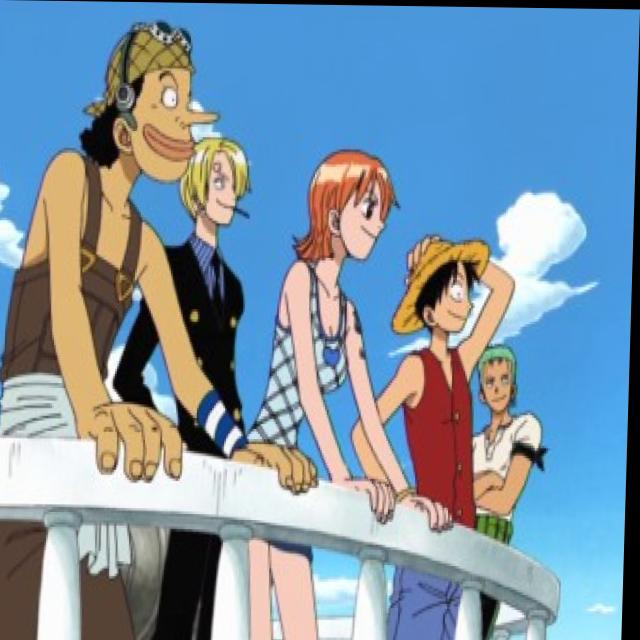Luffy: (386, 215, 502, 359)
Nami: (277, 137, 402, 286)
Sangdi: (170, 126, 258, 237)
Usopp: (84, 11, 215, 194)
Zoro: (475, 336, 531, 422)
